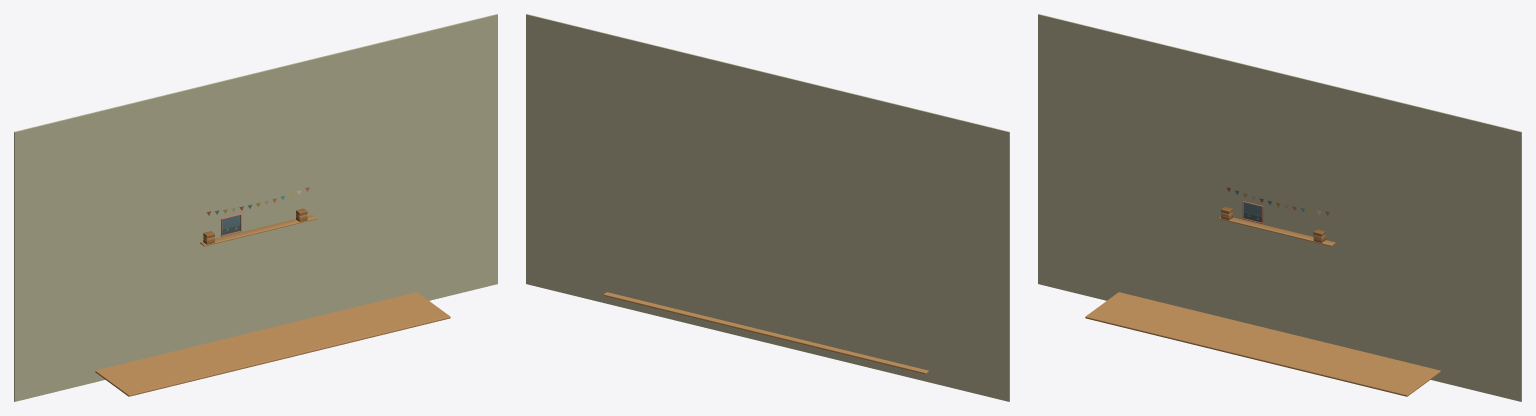
Rendered from backdrop_market.glb.
3 renders of one model, left to right at view 1: azimuth 30°, elevation 25°; view 2: azimuth 150°, elevation 25°; view 3: azimuth 330°, elevation 25°, orthographic.
Parts seen in each view (by area): view 1: Plain backdrop, Wide ground, Wide ledge; view 2: Plain backdrop, Wide ground; view 3: Plain backdrop, Wide ground, Wide ledge.
Boxes of the visible parts, x1,y1,x2,y2 form: Plain backdrop: (14, 14, 497, 401); Wide ground: (95, 292, 450, 396); Wide ledge: (200, 208, 316, 246); Plain backdrop: (526, 14, 1009, 401); Wide ground: (603, 292, 928, 374); Plain backdrop: (1038, 14, 1521, 401); Wide ground: (1085, 292, 1440, 396); Wide ledge: (1219, 207, 1335, 246).
Bounding box in the file's own units: 60 × 32 × 8.
